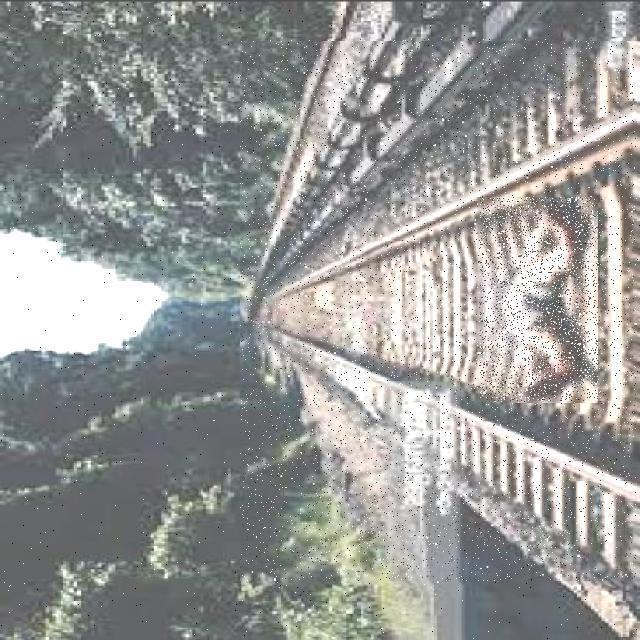rail: (242, 40, 637, 582)
